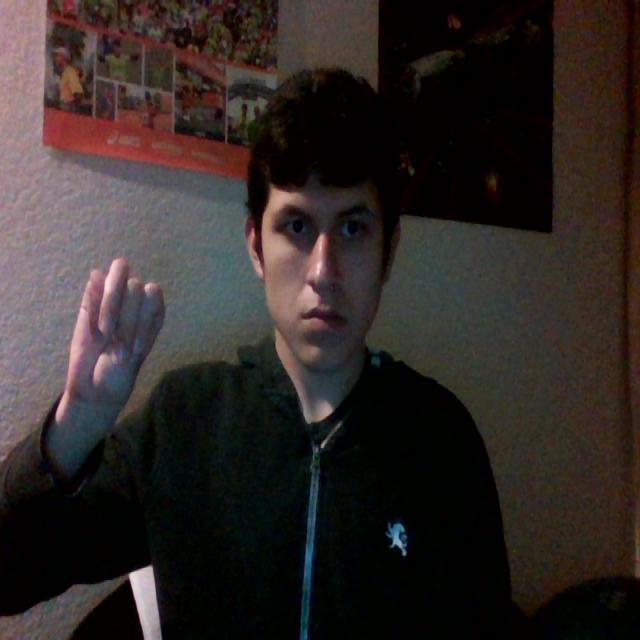M: (39, 223, 185, 460)
